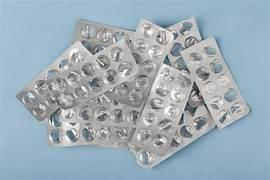pill_Strip: (74, 19, 172, 108), (74, 19, 172, 106), (129, 83, 214, 168), (46, 40, 137, 108), (181, 38, 248, 127), (16, 41, 91, 120), (55, 40, 138, 108), (130, 64, 192, 154), (129, 105, 215, 168), (115, 19, 172, 106), (59, 91, 140, 147), (131, 113, 214, 167), (46, 108, 134, 147), (46, 109, 133, 147), (47, 110, 133, 147), (61, 89, 141, 127), (46, 119, 133, 147), (73, 19, 134, 53), (171, 105, 215, 152), (73, 19, 133, 53), (167, 17, 201, 70), (167, 17, 201, 69), (167, 17, 200, 69), (60, 90, 112, 122), (74, 20, 134, 46), (74, 20, 131, 46), (75, 21, 124, 45), (74, 20, 132, 38), (167, 18, 200, 47), (92, 125, 134, 147), (136, 19, 172, 44), (99, 122, 133, 146), (184, 82, 204, 115), (112, 98, 143, 118), (186, 83, 204, 111), (80, 38, 112, 52), (153, 156, 163, 164)
